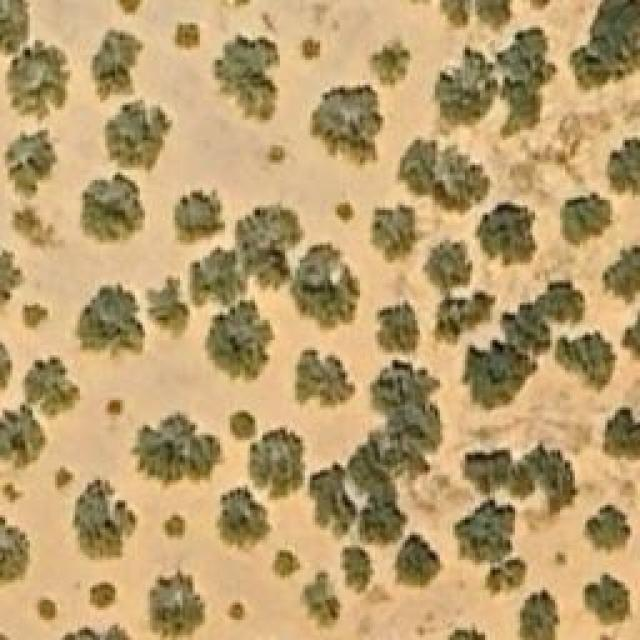Tree: (133, 410, 228, 488), (567, 0, 640, 95), (212, 33, 280, 126), (365, 368, 443, 441), (313, 85, 383, 165), (400, 138, 480, 208), (75, 280, 145, 355), (503, 33, 553, 138), (73, 478, 136, 558), (302, 243, 360, 326), (238, 208, 298, 288), (103, 100, 173, 168), (455, 500, 528, 563), (5, 48, 70, 118), (205, 307, 270, 375), (83, 175, 146, 243), (435, 53, 493, 126), (460, 347, 533, 405), (475, 203, 538, 268), (250, 428, 308, 498), (215, 485, 273, 555), (93, 28, 146, 101), (558, 328, 618, 391), (515, 448, 578, 508), (150, 570, 205, 638), (310, 463, 358, 533), (3, 130, 56, 193), (297, 350, 355, 405), (433, 290, 493, 343), (175, 188, 225, 243), (583, 573, 633, 628), (370, 203, 415, 263), (465, 443, 513, 498), (27, 360, 75, 413), (563, 195, 613, 245), (423, 240, 473, 290), (0, 410, 45, 465), (585, 505, 633, 555), (398, 533, 443, 586), (517, 587, 562, 640), (190, 255, 235, 308), (300, 572, 340, 630), (602, 245, 640, 305), (378, 303, 421, 356), (368, 35, 413, 85), (605, 135, 640, 198), (0, 518, 30, 588), (602, 408, 640, 463), (150, 280, 185, 335), (360, 503, 403, 546), (0, 0, 30, 58), (0, 247, 25, 315), (483, 560, 528, 595), (343, 545, 373, 593), (620, 307, 640, 365), (158, 513, 193, 546), (478, 0, 511, 28), (230, 410, 258, 440), (172, 22, 200, 50), (20, 300, 48, 328), (90, 582, 118, 610), (440, 0, 468, 25), (275, 550, 300, 578), (35, 598, 58, 623), (0, 483, 25, 503), (335, 200, 355, 223), (115, 0, 143, 15), (227, 600, 245, 623), (268, 145, 288, 163), (55, 468, 73, 488), (302, 40, 320, 58)
